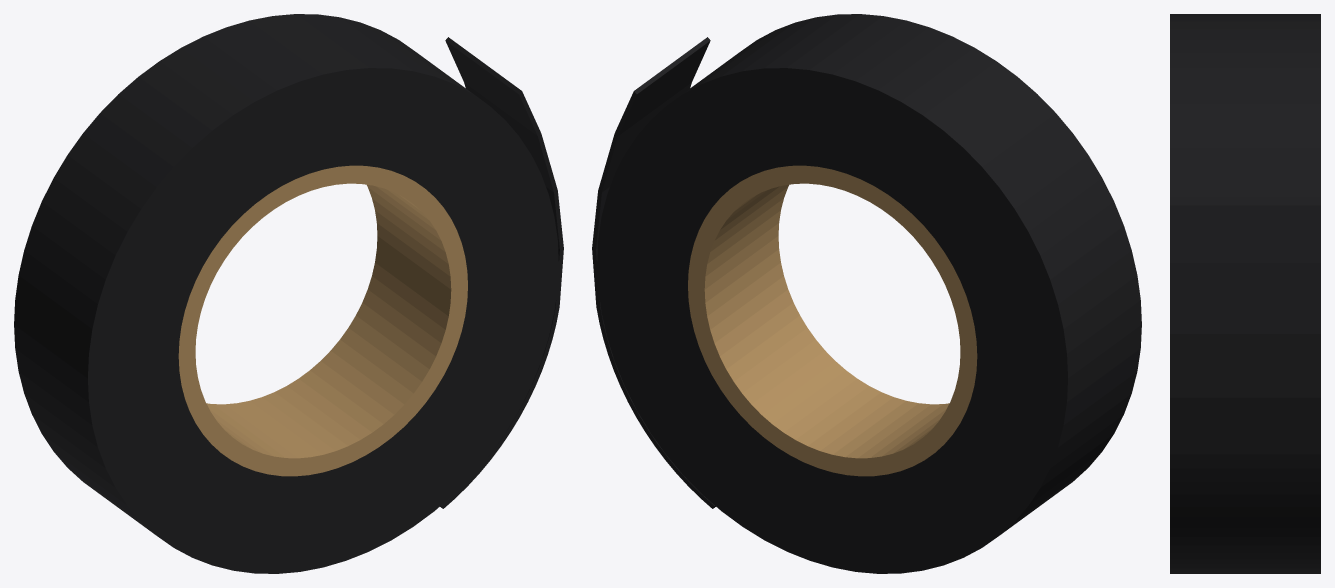
File: fita_isolante_19mm.obj
3 renders of one model, left to right at view 1: azimuth 30°, elevation 25°; view 2: azimuth 150°, elevation 25°; view 3: azimuth 270°, elevation 25°, orthographic. The views are drawn at different scales.
Parts seen in each view (by area): view 1: fita_isolante_19mm_fita, fita_isolante_19mm_nucleo; view 2: fita_isolante_19mm_fita, fita_isolante_19mm_nucleo; view 3: fita_isolante_19mm_fita.
Part boxes in pixels (left/top/right/bottom): fita_isolante_19mm_fita: left=14, top=14, right=563, bottom=573; fita_isolante_19mm_nucleo: left=178, top=165, right=467, bottom=476; fita_isolante_19mm_fita: left=592, top=14, right=1141, bottom=573; fita_isolante_19mm_nucleo: left=688, top=165, right=977, bottom=476; fita_isolante_19mm_fita: left=1170, top=14, right=1320, bottom=573.
Bounding box in the file's own units: 70.75 × 70 × 19.
